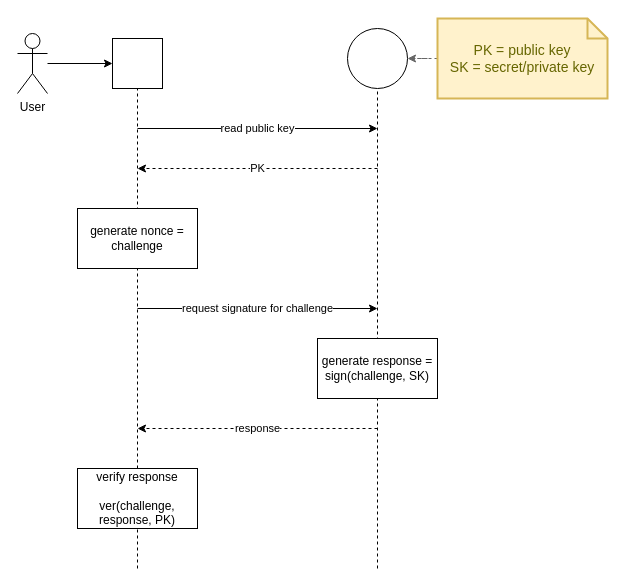
Some shapes in this 626 by 587 pixel diagram are drawn without their labels. Here are the shapes that lost their labels. From the top down, the centre of each, then its label:
At point (137, 63): "Device".
At point (377, 58): "NFC Tag PK, SK".
